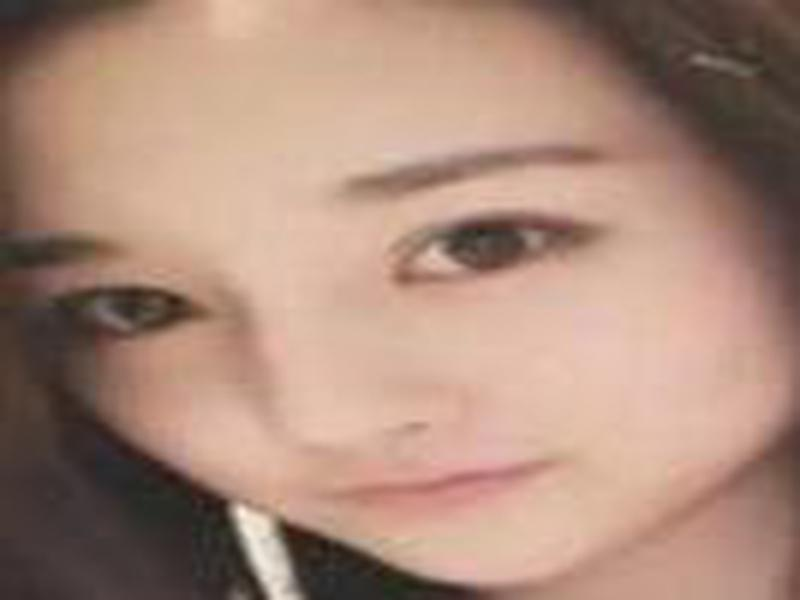without_mask: (6, 33, 793, 587)
